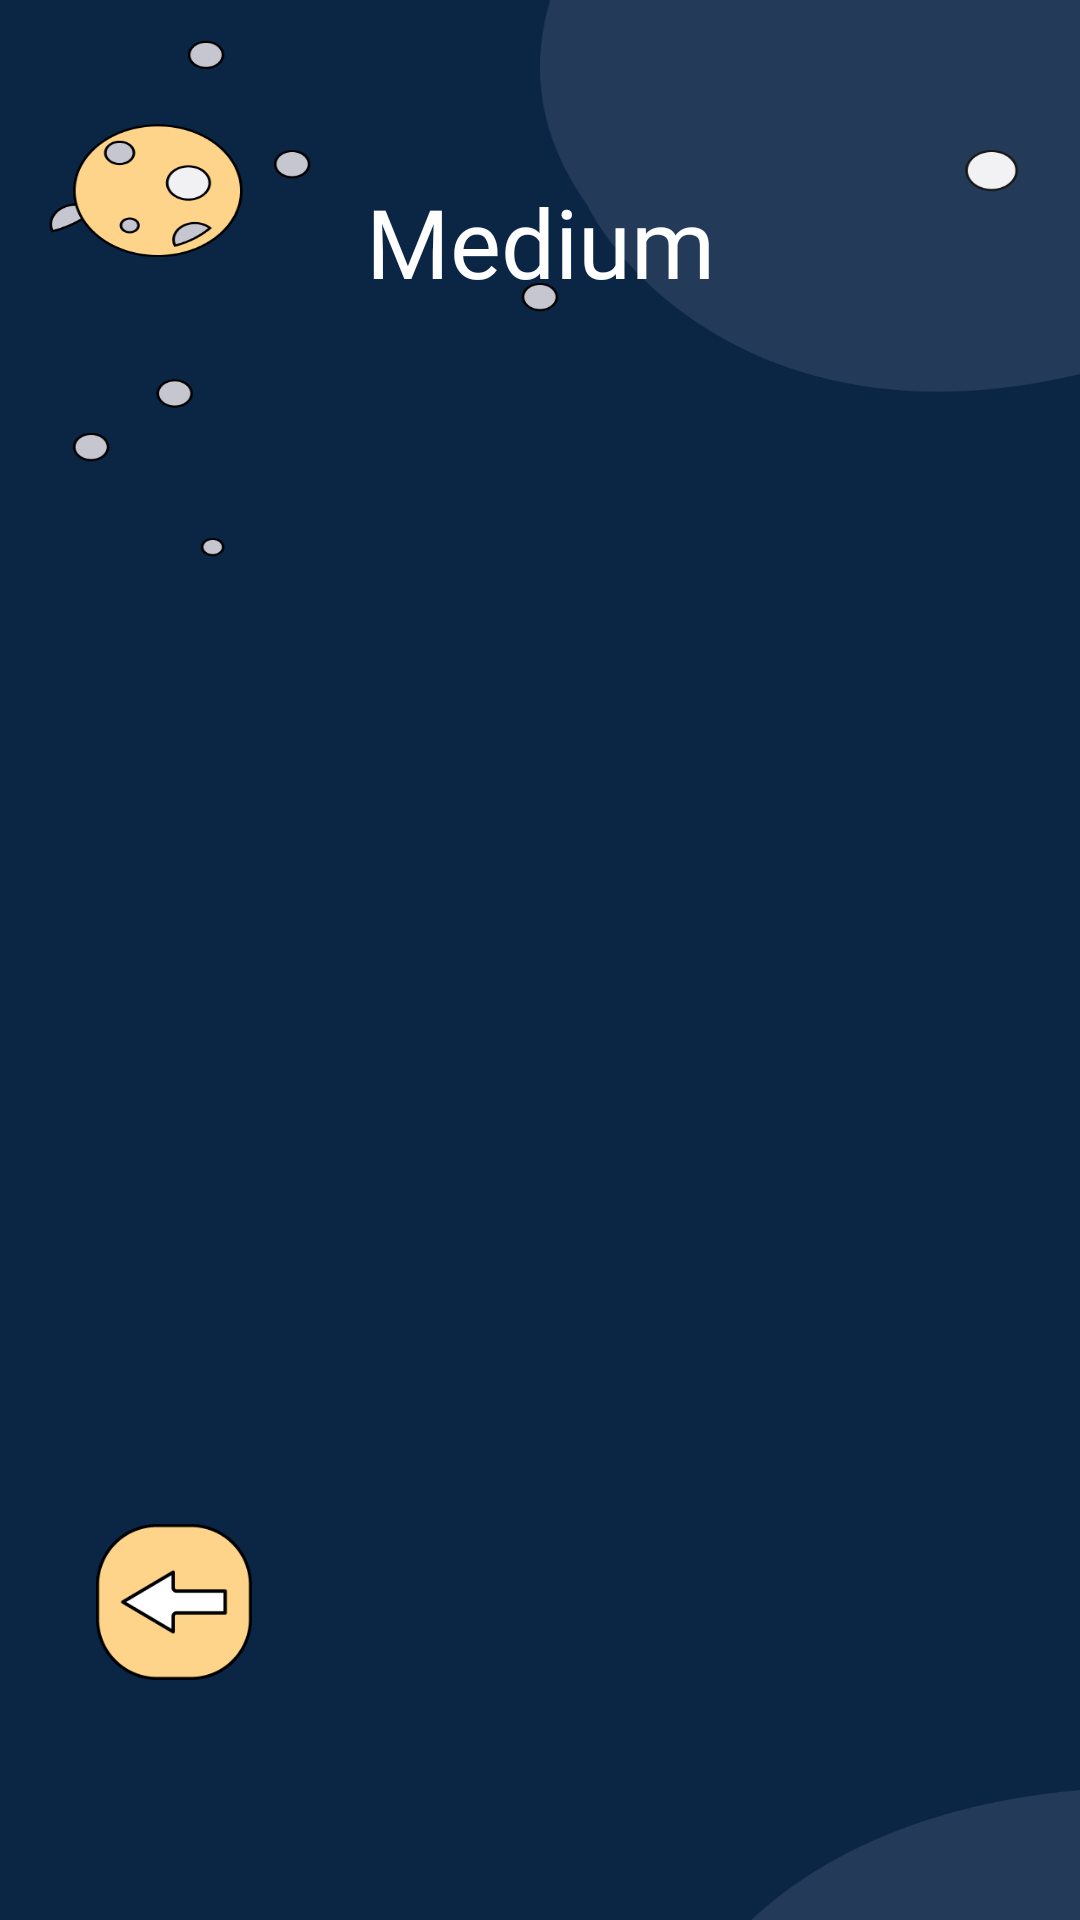

Named icons in this screenshot (1080 x 1920) and their centers, [x,y]:
nazad: [174,1602]
